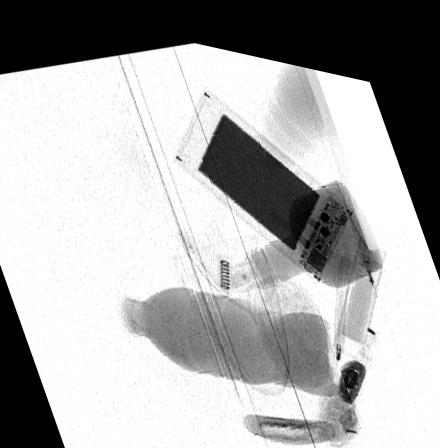Powerbank: (172, 77, 355, 269)
